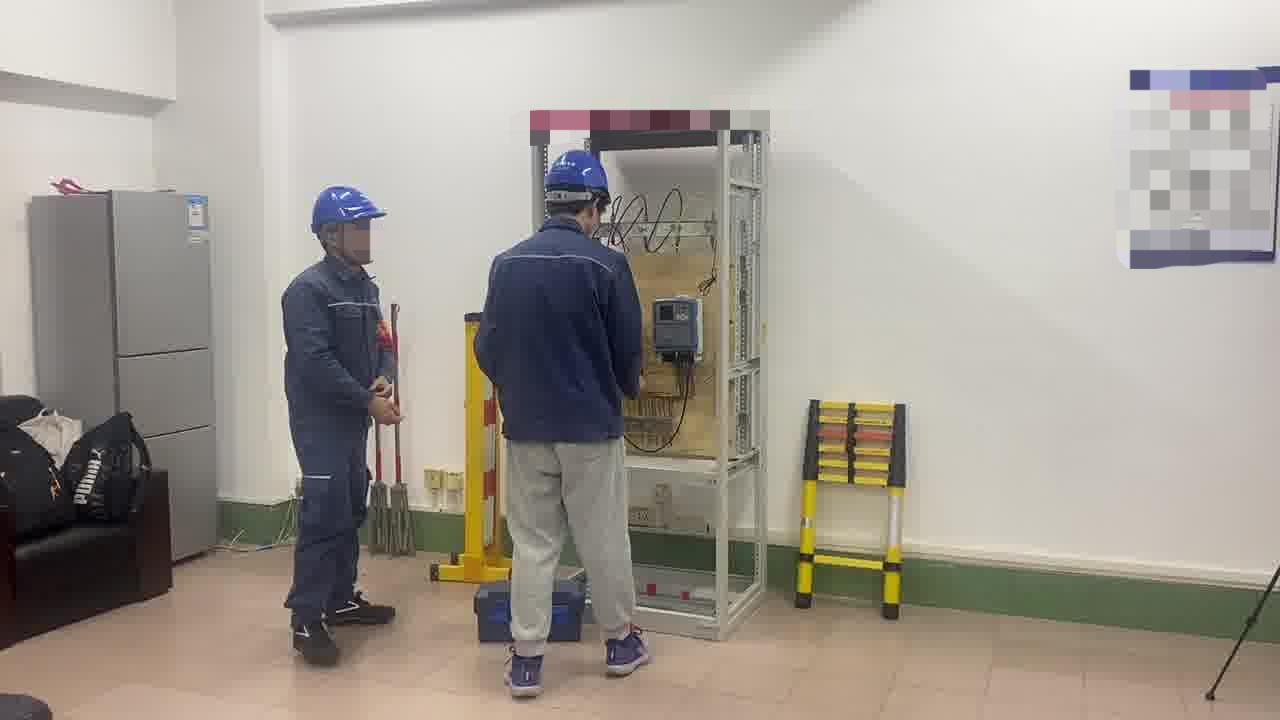halt: (312, 189, 390, 266), (545, 150, 615, 228)
inear: (319, 224, 354, 258)
